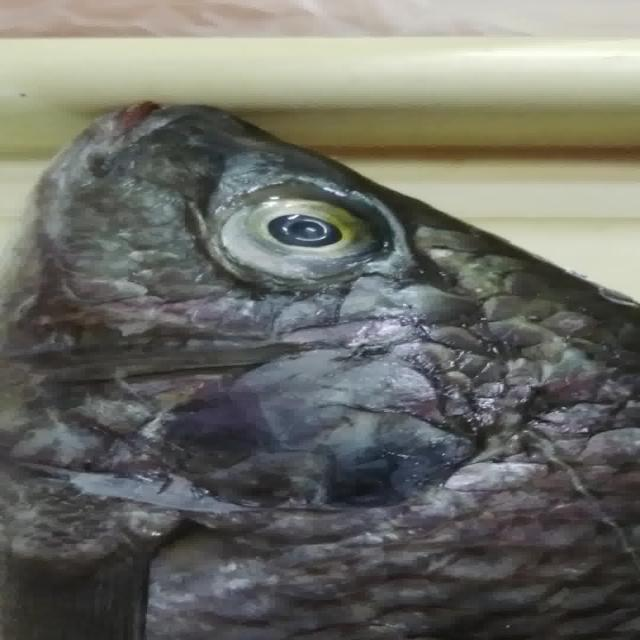Non-Fresh: (192, 160, 422, 304)
